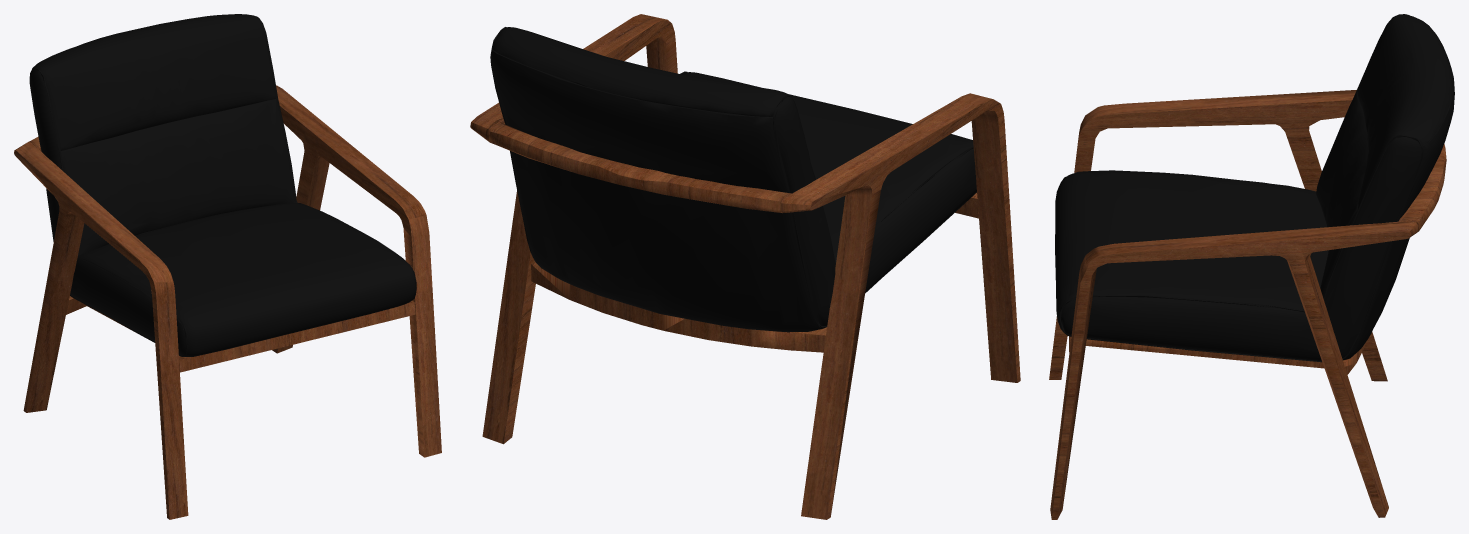
Rendered from Chair 1.FBX.
3 renders of one model, left to right at view 1: azimuth 30°, elevation 25°; view 2: azimuth 150°, elevation 25°; view 3: azimuth 270°, elevation 25°, orthographic. The views are drawn at different scales.
Parts seen in each view (by area): view 1: chair 1; view 2: chair 1; view 3: chair 1.
Part boxes in pixels (<box>): chair 1: <box>14,14,441,519</box>; chair 1: <box>470,14,1020,519</box>; chair 1: <box>1049,14,1454,519</box>.
Bounding box in the file's own units: 71.95 × 83.43 × 82.23.
Materials: 2 (1 with a texture image).
